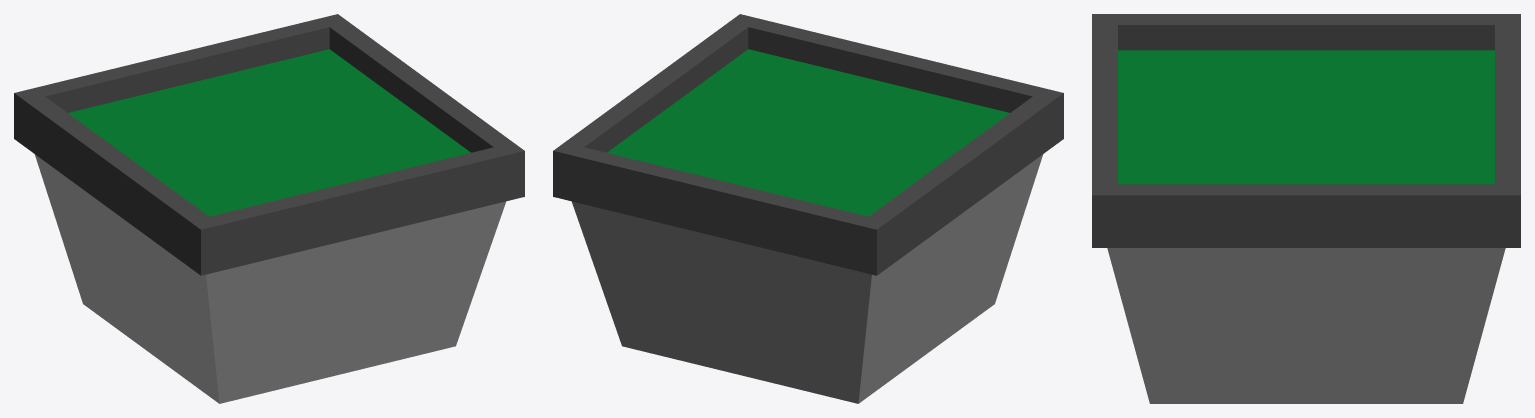
File: Flowerbed-02.fbx
The picture shows the model from 3 angles, left to right: view 1: azimuth 30°, elevation 25°; view 2: azimuth 150°, elevation 25°; view 3: azimuth 270°, elevation 25°; orthographic projection. The views are drawn at different scales.
Parts seen in each view (by area): view 1: Flowerbed-02; view 2: Flowerbed-02; view 3: Flowerbed-02.
Part boxes in pixels (<box>): Flowerbed-02: <box>14,14,524,403</box>; Flowerbed-02: <box>553,14,1063,403</box>; Flowerbed-02: <box>1092,14,1520,403</box>.
Bounding box in the file's own units: 1 × 0.6022 × 1.
